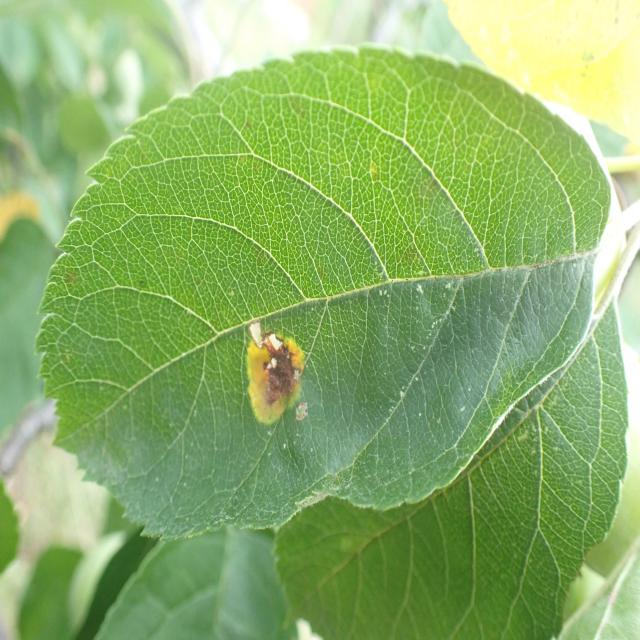Rust: (245, 307, 311, 448)
